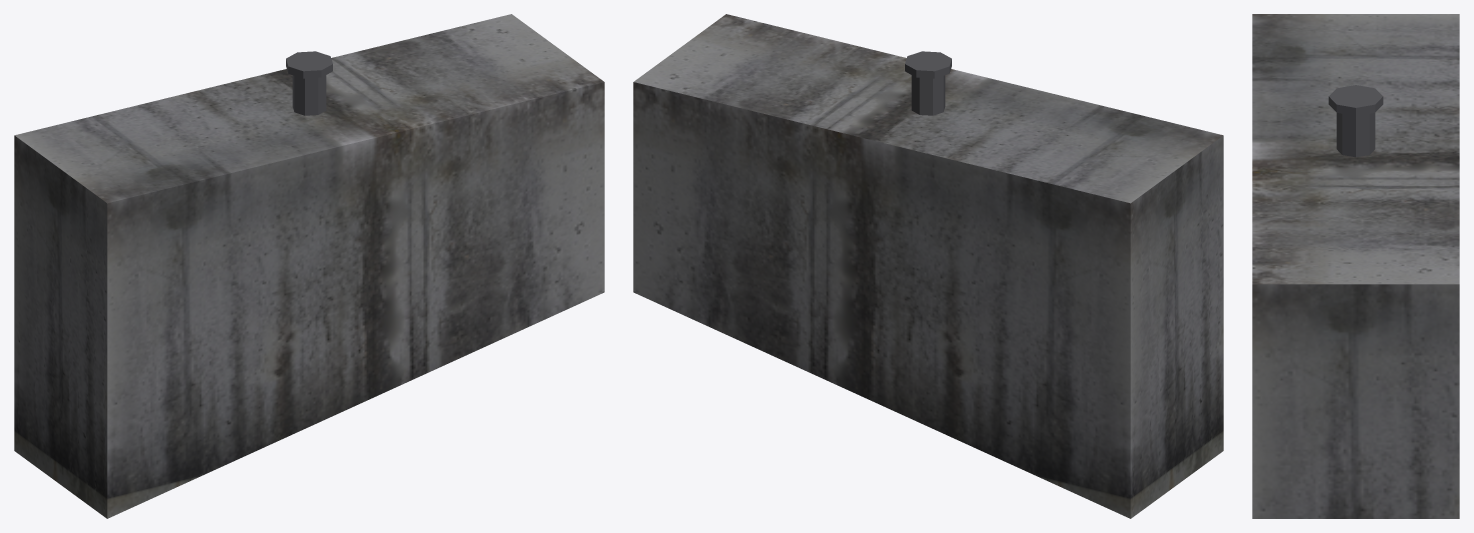
The model's file is zdymadlo_zed_svah_1.glb.
3 renders of one model, left to right at view 1: azimuth 30°, elevation 25°; view 2: azimuth 150°, elevation 25°; view 3: azimuth 270°, elevation 25°, orthographic. The views are drawn at different scales.
Visible parts, largest first — view 1: zdymadlo_zed_svah_1; view 2: zdymadlo_zed_svah_1; view 3: zdymadlo_zed_svah_1.
Boxes of the visible parts, x1,y1,x2,y2 form: zdymadlo_zed_svah_1: (14, 14, 604, 518); zdymadlo_zed_svah_1: (633, 14, 1223, 518); zdymadlo_zed_svah_1: (1252, 14, 1459, 518).
Size of the model in its own units: 4.95 by 3.45 by 1.6.
2 materials, 1 textured.
